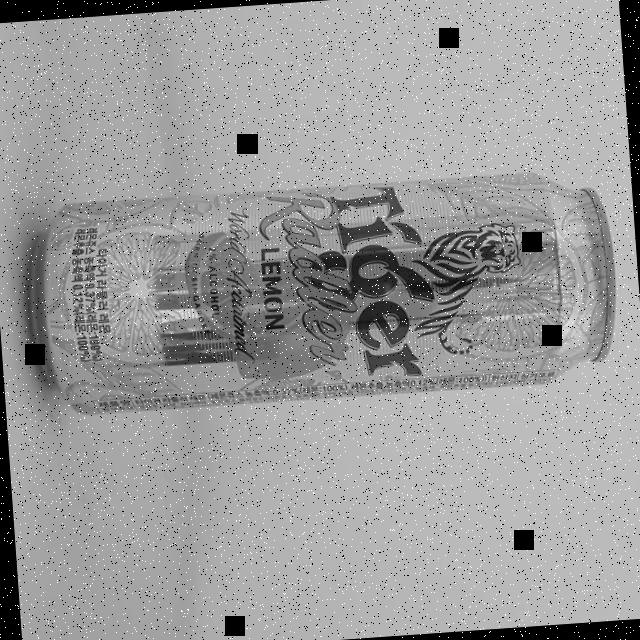can: (22, 164, 622, 418)
